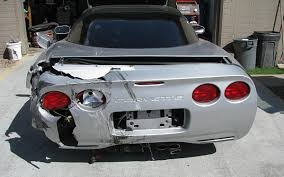Broken-glass: (40, 88, 108, 112)
Scratch: (113, 69, 143, 109)
Smashed: (27, 55, 156, 153)
